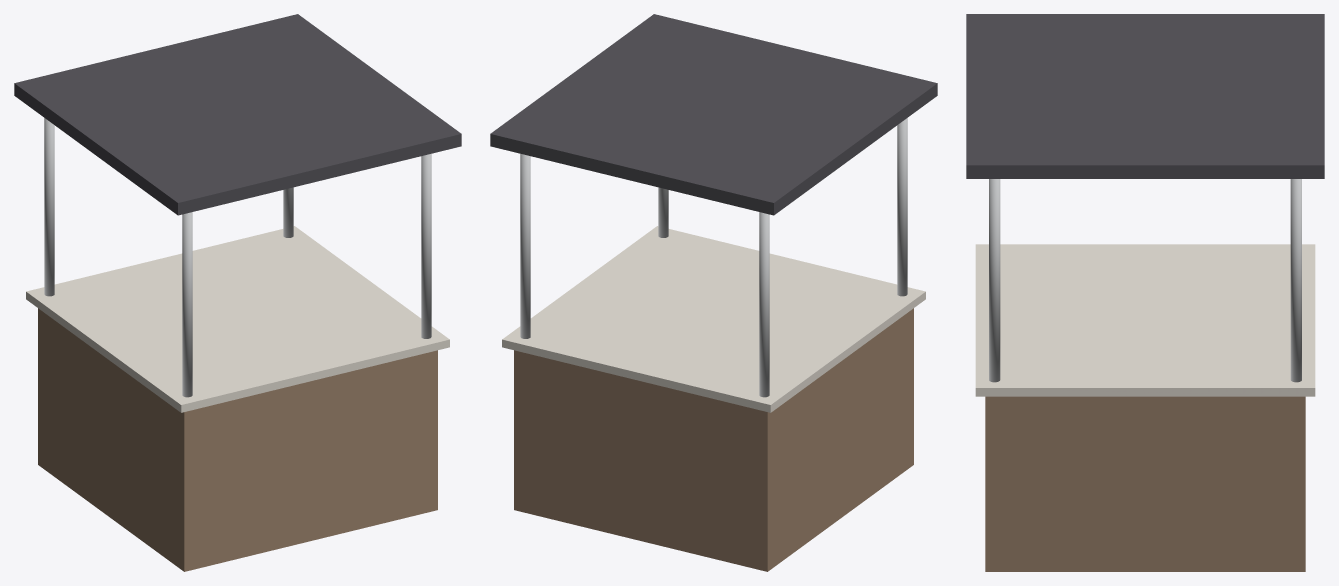
File: kiosk.glb
3 renders of one model, left to right at view 1: azimuth 30°, elevation 25°; view 2: azimuth 150°, elevation 25°; view 3: azimuth 270°, elevation 25°, orthographic. The views are drawn at different scales.
Visible parts, largest first — view 1: box, box.002, box.001, metal; view 2: box, box.002, box.001, metal; view 3: box.002, box, box.001, metal.
Part boxes in pixels (<box>): box: <box>38,308,437,571</box>; box.002: <box>14,14,461,215</box>; box.001: <box>26,226,449,412</box>; metal: <box>44,118,431,397</box>; box: <box>514,308,913,571</box>; box.002: <box>490,14,937,215</box>; box.001: <box>502,226,925,412</box>; metal: <box>520,118,907,397</box>; box.002: <box>966,14,1324,178</box>; box: <box>985,396,1305,571</box>; box.001: <box>975,244,1315,396</box>; metal: <box>989,179,1301,382</box>.
Size of the model in its own units: 1.9 by 2.43 by 1.9.
